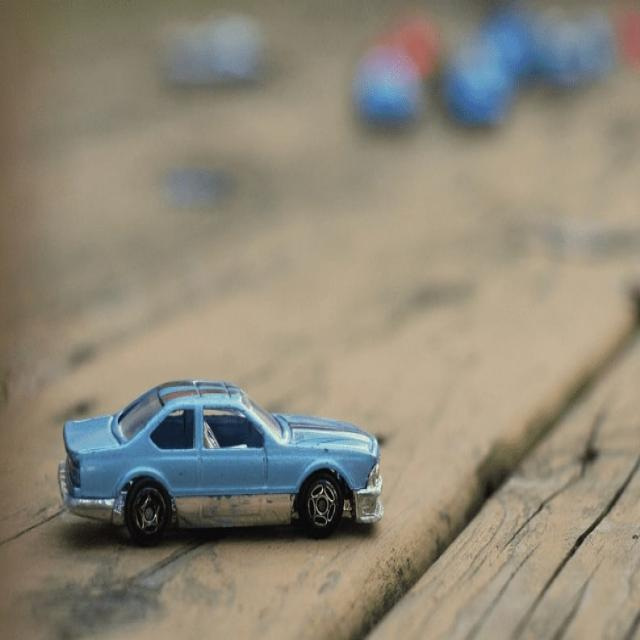Car: (57, 377, 384, 546)
